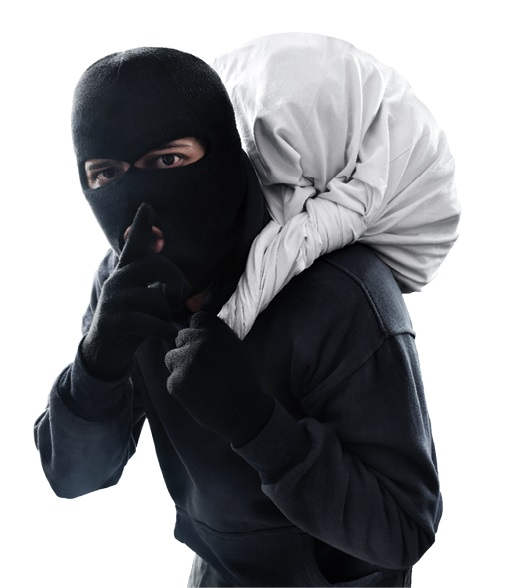thief: (28, 27, 477, 571), (62, 36, 279, 323)
